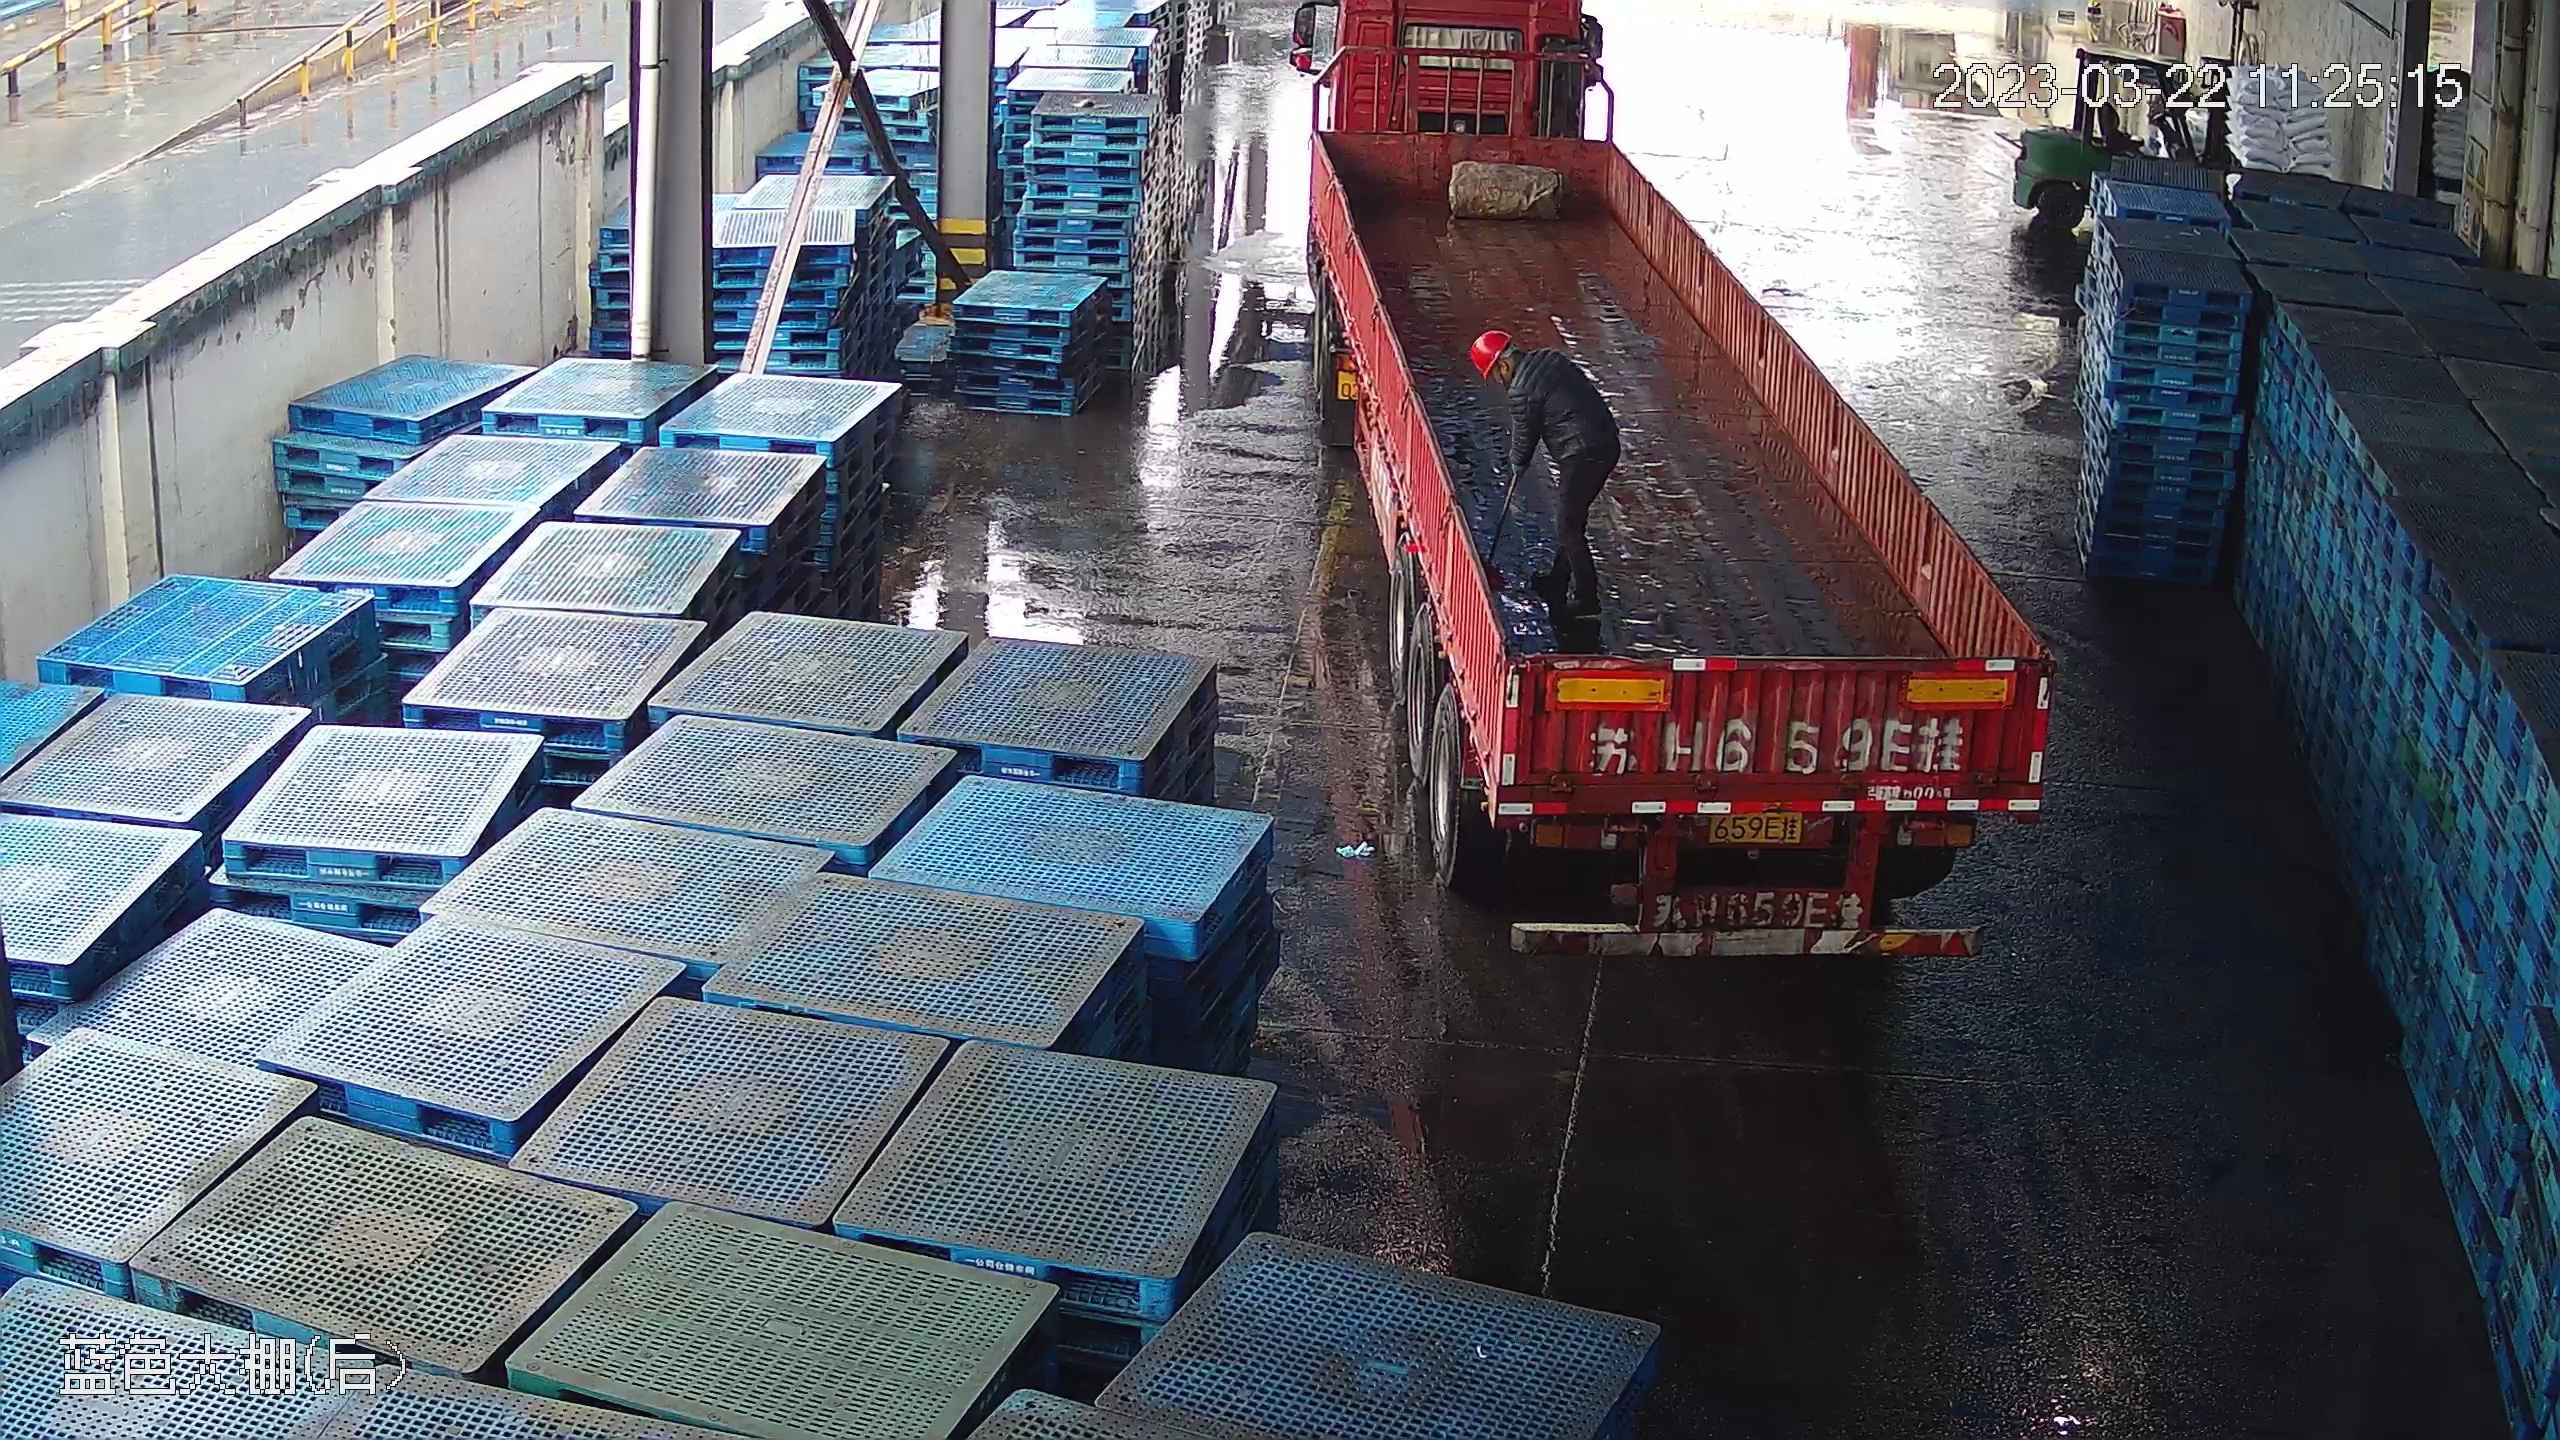head: (1464, 329, 1566, 416)
helmet: (1472, 330, 1513, 372)
people: (1468, 328, 1621, 612)
truck: (1298, 6, 2072, 971)
